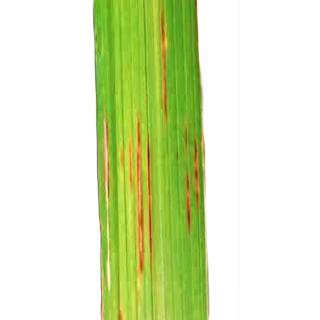Bercak-Cokelat-Sempit: (101, 107, 118, 297), (155, 4, 177, 132), (132, 115, 146, 276), (144, 130, 156, 272), (181, 167, 195, 244), (193, 141, 206, 211), (184, 122, 192, 156)
